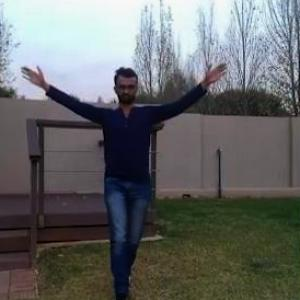takeoff: (19, 63, 222, 288)
